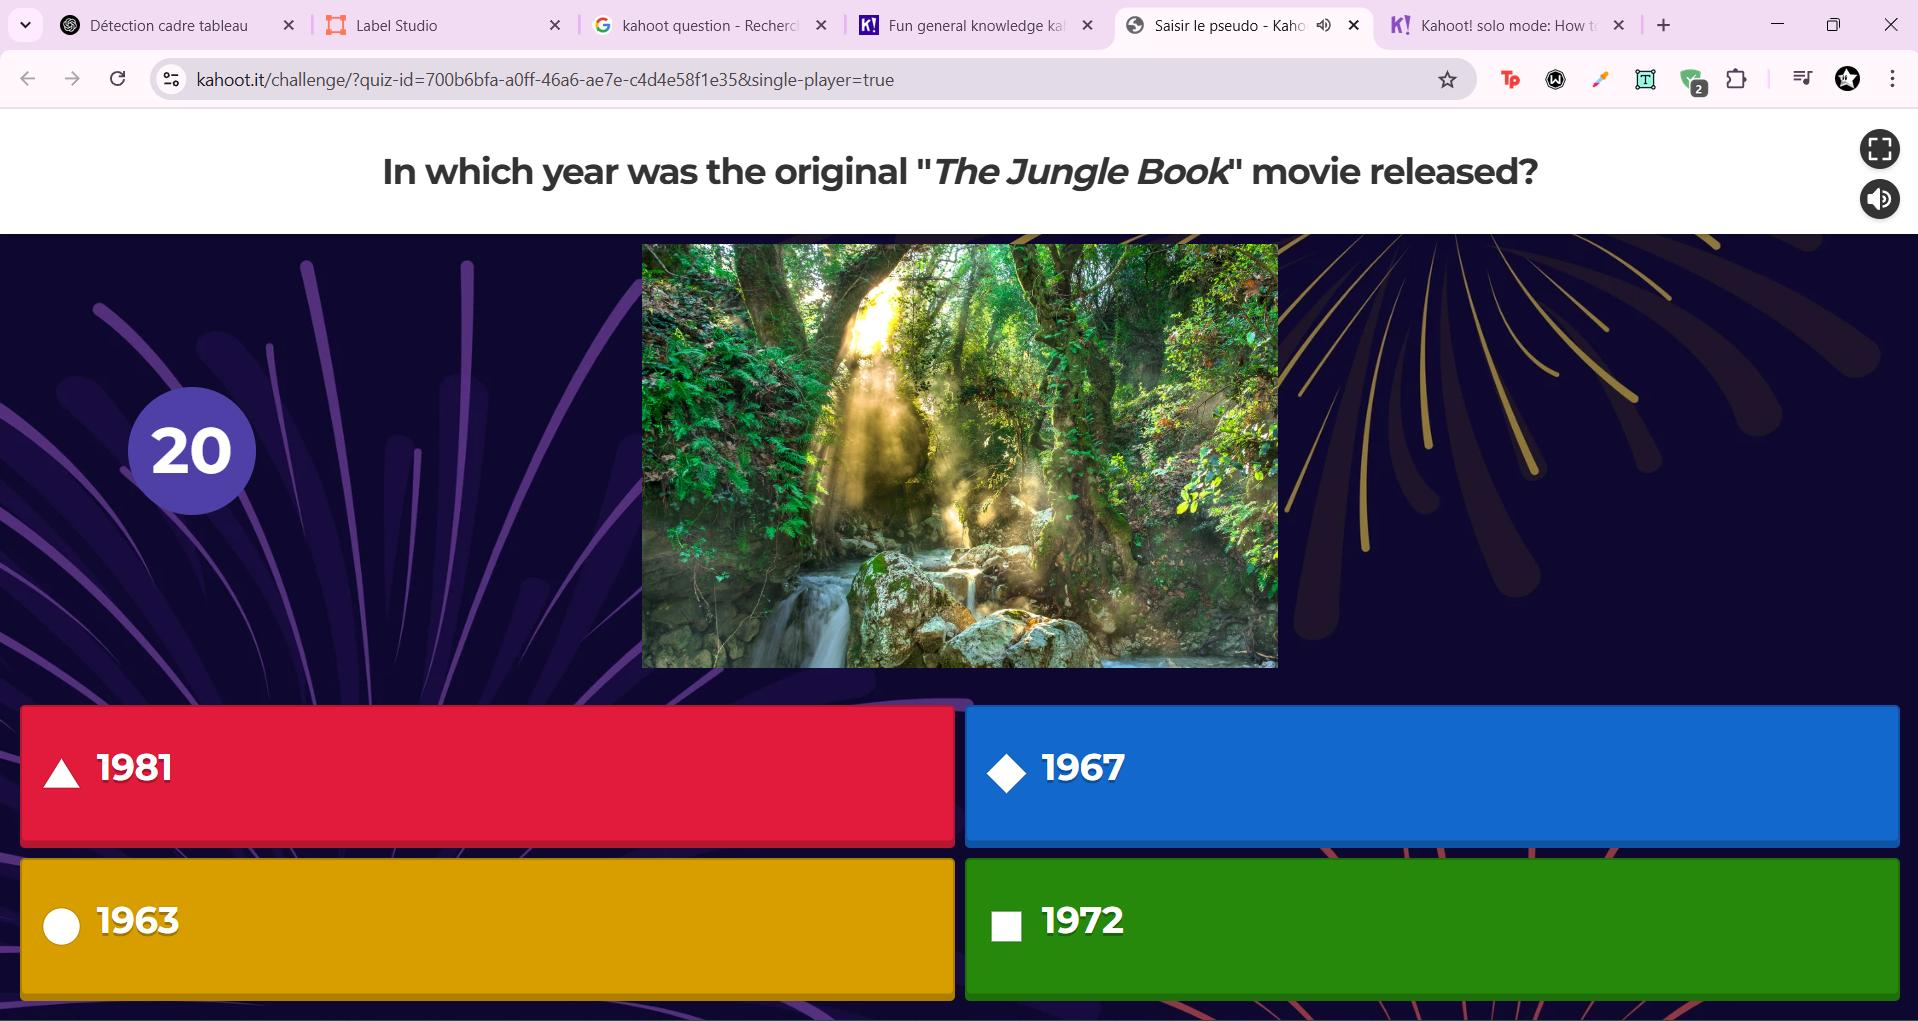answer_blue: (967, 709, 1902, 845)
answer_green: (962, 862, 1900, 996)
answer_red: (23, 707, 954, 849)
answer_yellow: (23, 858, 956, 998)
question_box: (0, 111, 1795, 234)
